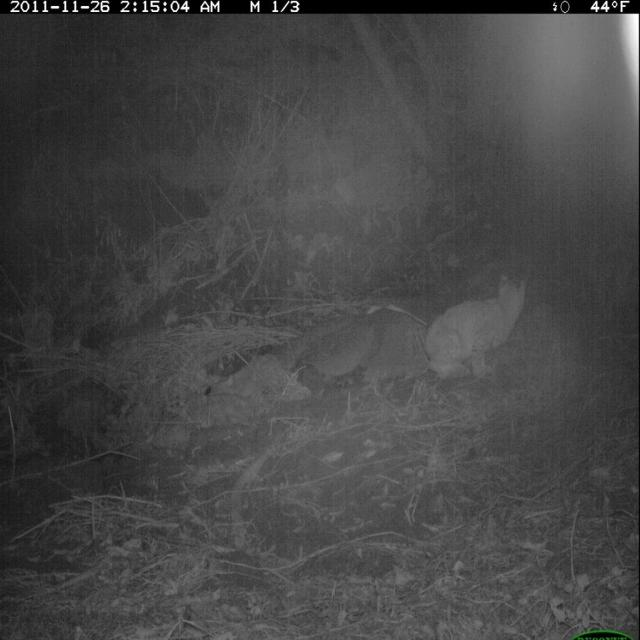bobcat: (420, 266, 533, 387)
